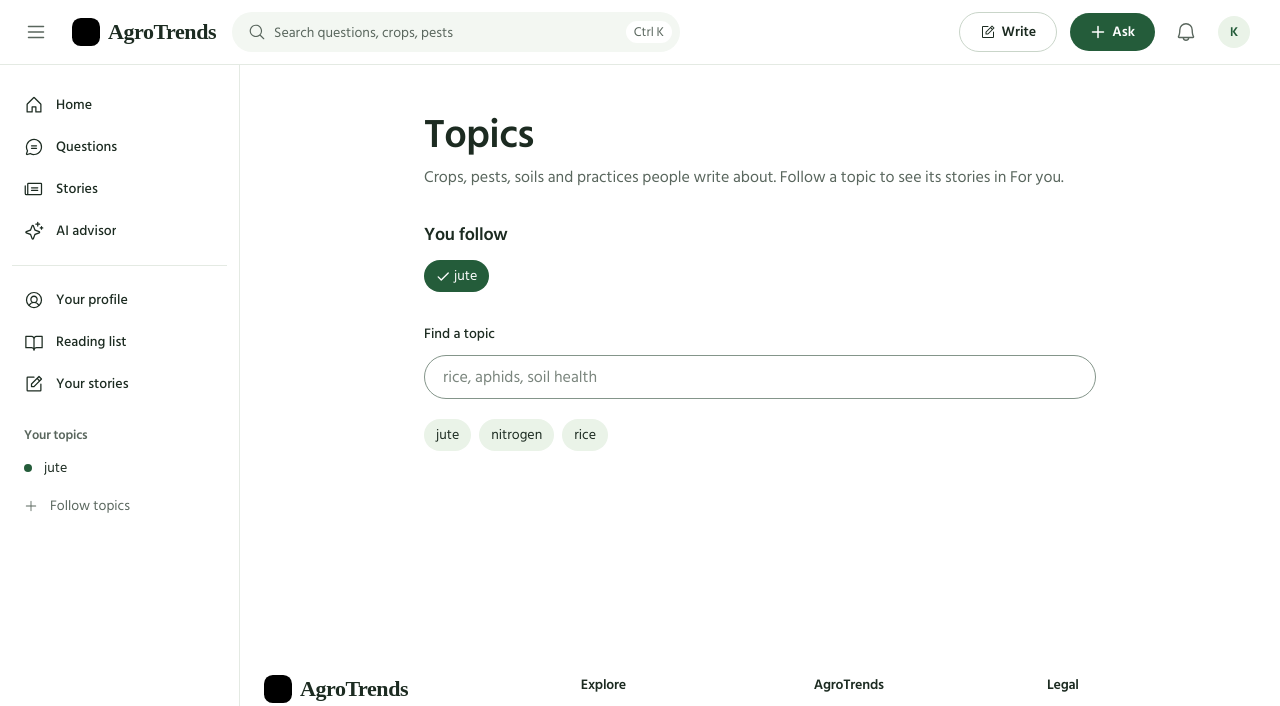
it: the topics page searches tags and shows the followed ones
In the search field labelled "Find a topic": (760, 377) [424,355,1096,399], type "Ri"
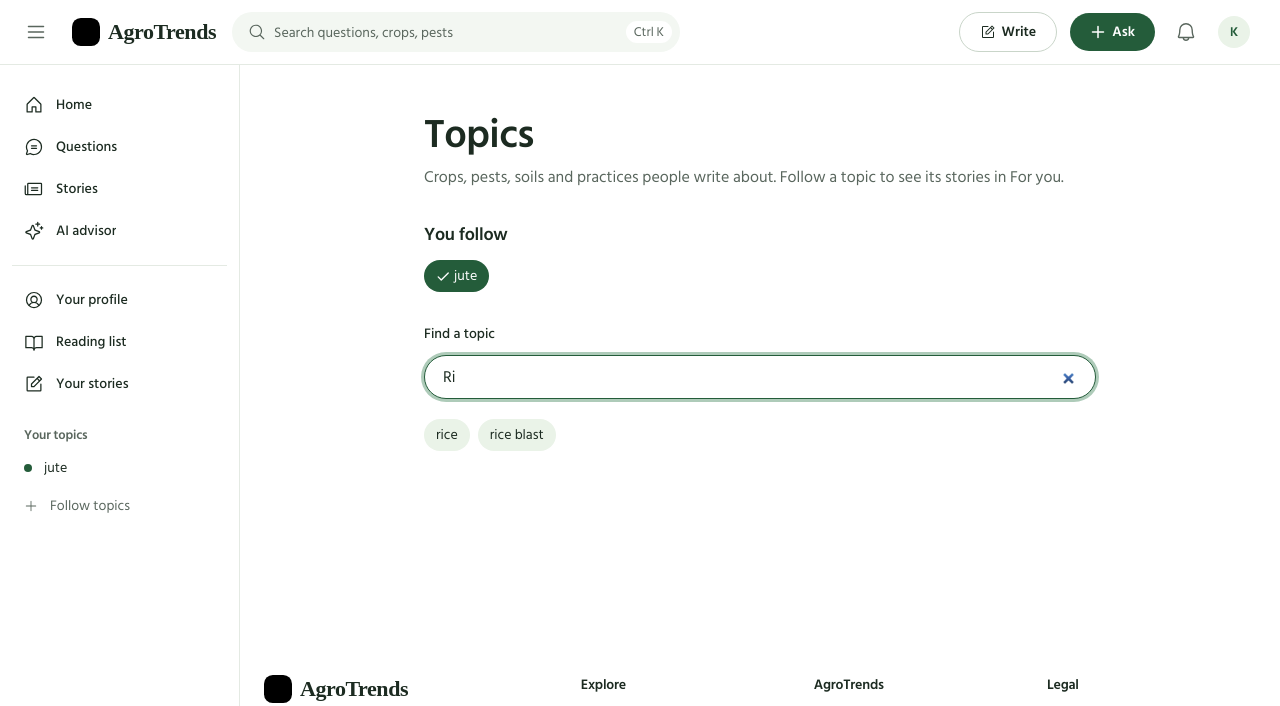
expect the links read "rice", "rice blast", in this order: met, box [424,419,470,451]; [478,419,556,451]
